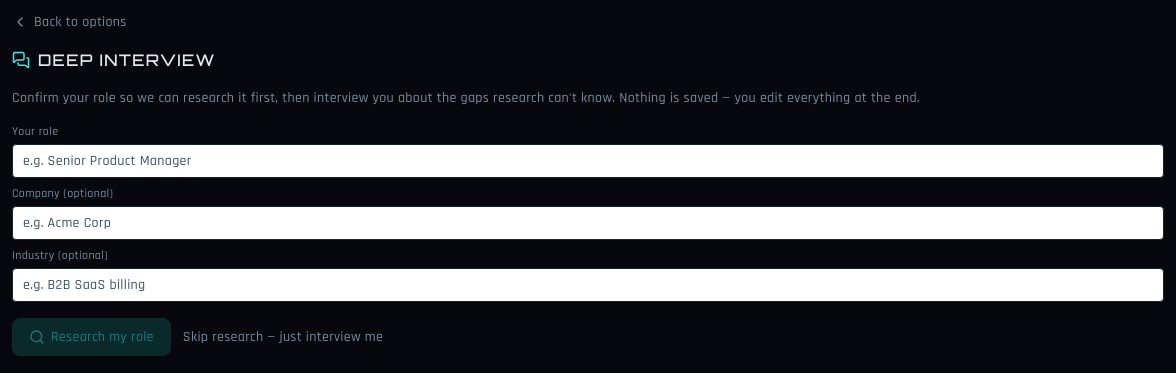
Scenario: DeepInterviewPanel — the gap interview (step 3) › shows a non-blocking notice and never forwards a draft when synthesis is skipped
Expected: the field labelled "Your role" is shown, x1=12 y1=144 x2=1164 y2=178
Click the button "Skip research — just interview me". click: (283, 337)
box: x1=183 y1=327 x2=383 y2=347
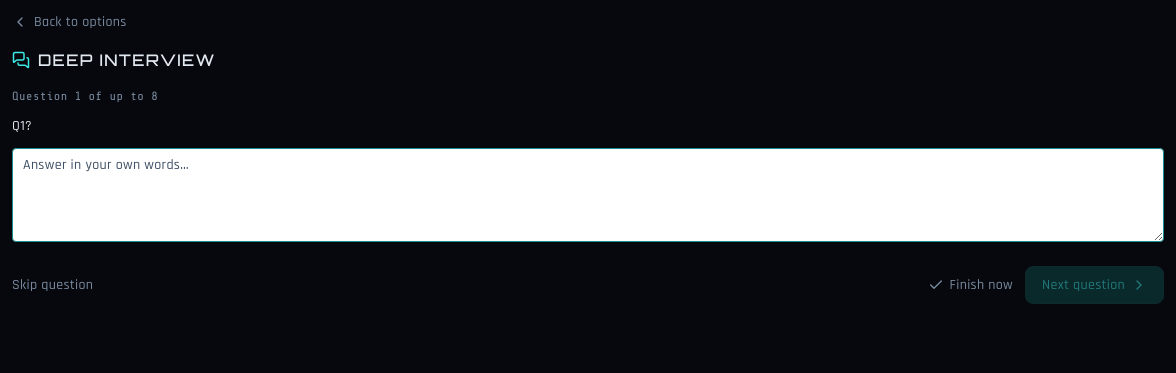
Result: the text "Q1?" is shown at x1=12 y1=117 x2=32 y2=135
Type "answer" into the text box. click: (588, 195)
box: x1=12 y1=148 x2=1164 y2=242
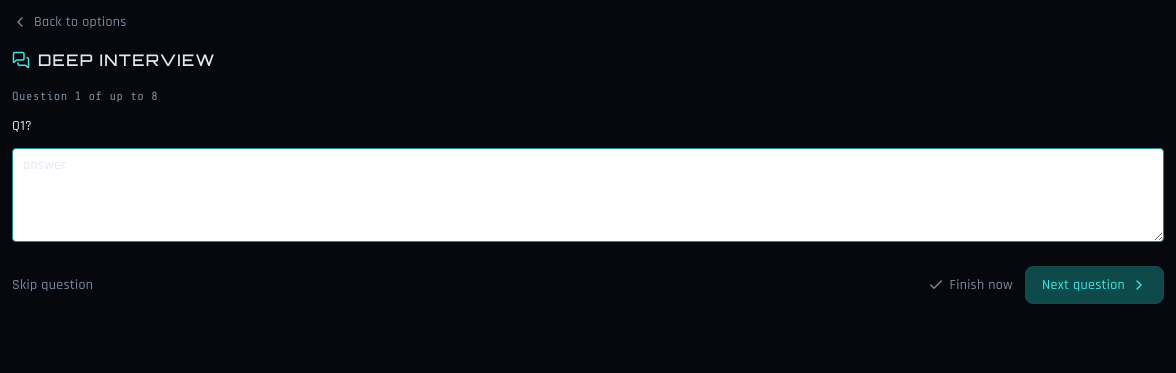
Click the button "Finish now". click: (970, 285)
box: x1=928 y1=275 x2=1013 y2=295
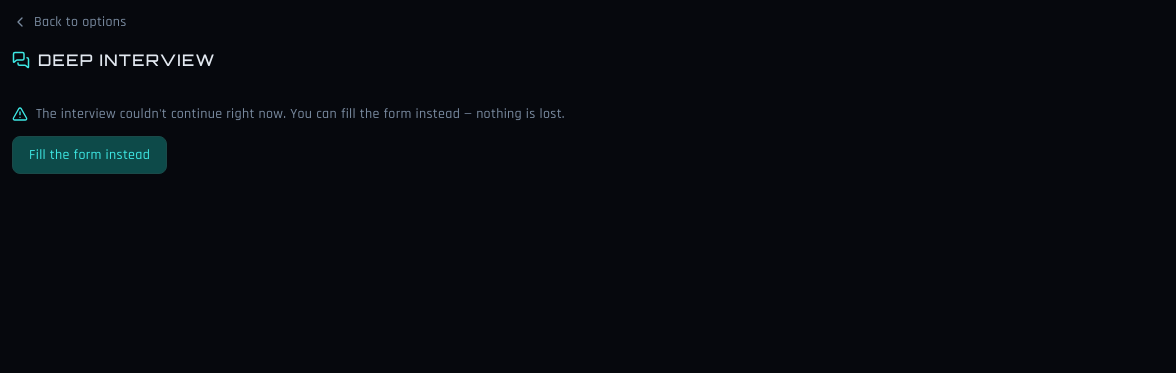
Result: the text "couldn't continue" is shown at x1=36 y1=105 x2=565 y2=123
